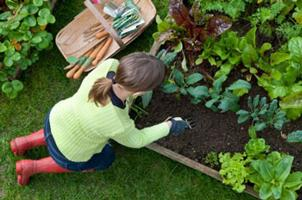person: (8, 50, 192, 185)
